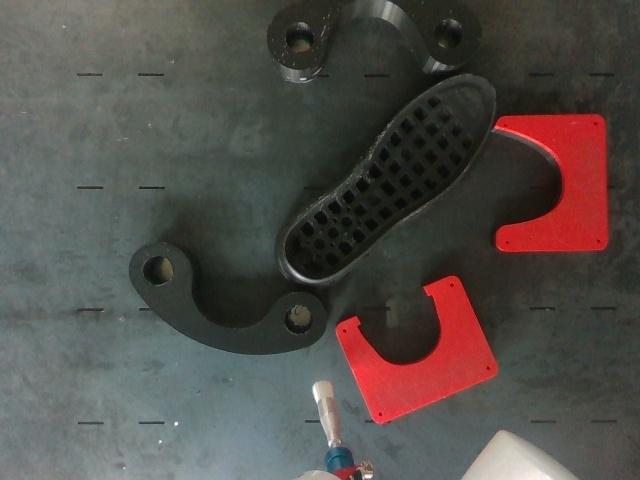shoes: (283, 74, 495, 280)
